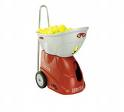tennis ball: (57, 24, 66, 32)
